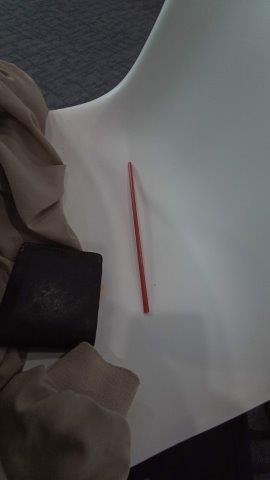sedotan: (128, 162, 149, 314)
